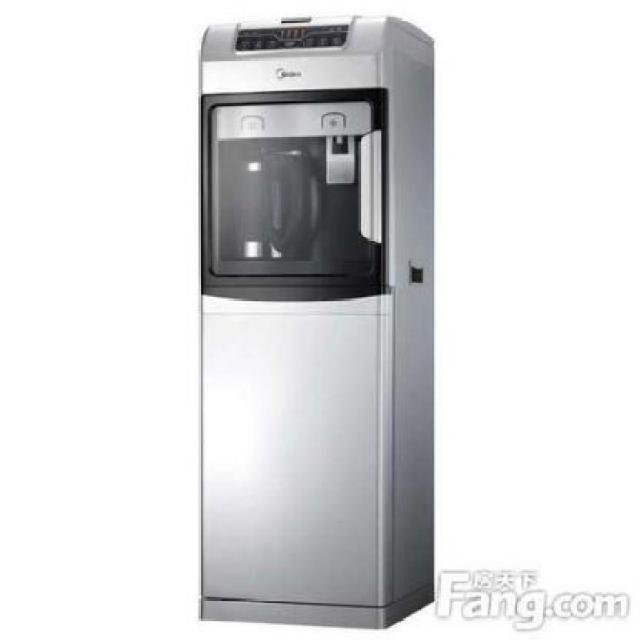cooler: (195, 12, 438, 632)
